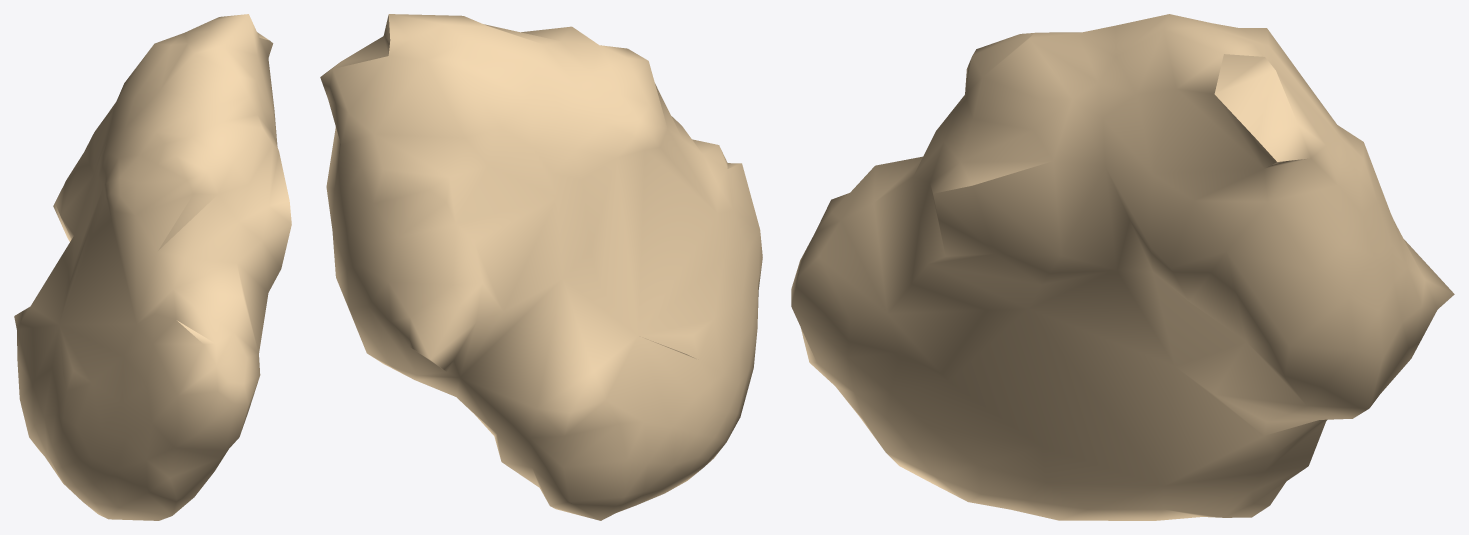
Rendered from spl-523.glb.
3 views of the same model, side by side, from view 1: azimuth 30°, elevation 25°; view 2: azimuth 150°, elevation 25°; view 3: azimuth 270°, elevation 25° (orthographic). The views are drawn at different scales.
Parts seen in each view (by area): view 1: spl-523; view 2: spl-523; view 3: spl-523.
Boxes of the visible parts, x1,y1,x2,y2 form: spl-523: [14, 14, 291, 520]; spl-523: [320, 14, 762, 520]; spl-523: [791, 14, 1454, 520].
Size of the model in its own units: 6.8 by 9.51 by 9.53.
